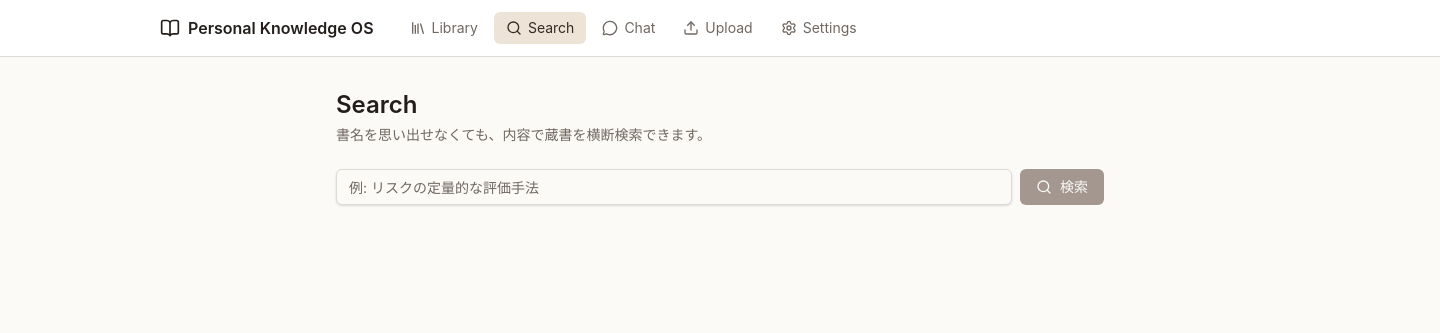
Test: SearchPage › 検索を実行し、citation付きの結果カードを表示する
In the field named "検索キーワード": (674, 187) [336,169,1012,205], type "リスク対応"
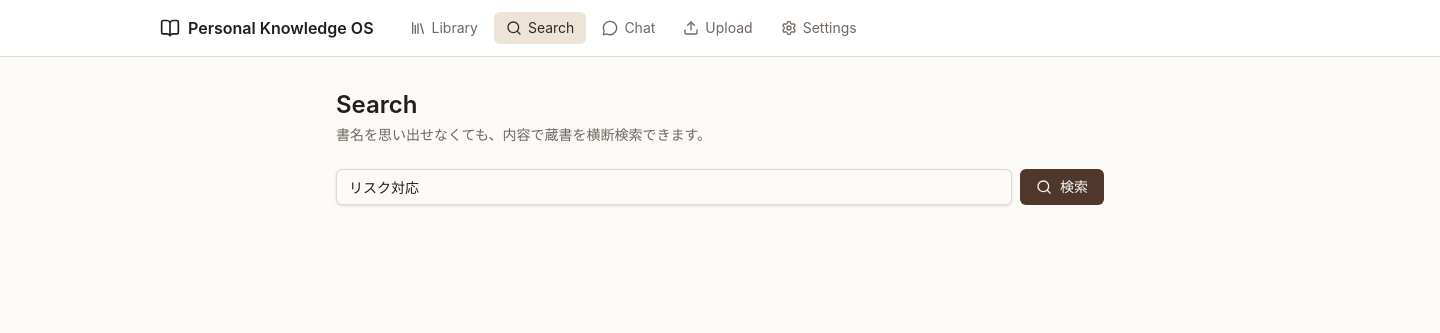
Click the button "検索": (1062, 187) [1020,169,1104,205]
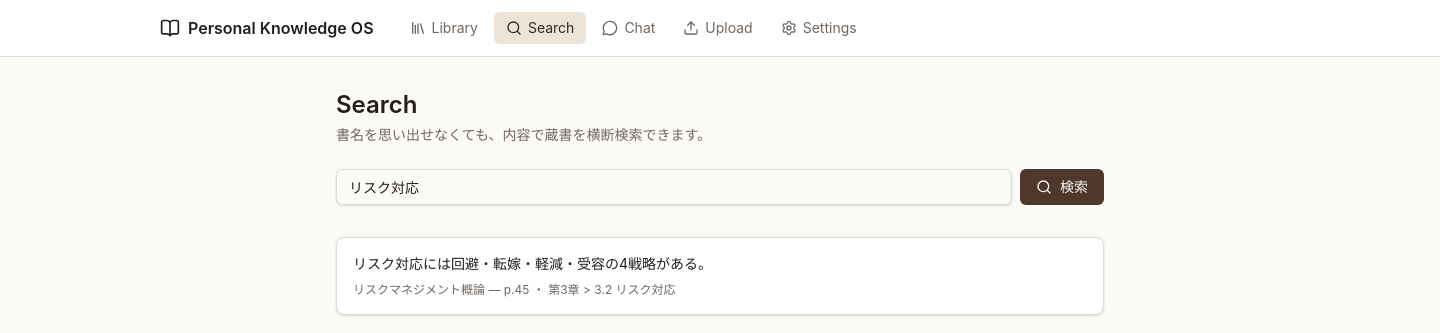
Expected: the text "リスク対応には回避・転嫁・軽減・受容の4戦略がある。" is shown, [353,255,712,272]
Expected: the text "リスクマネジメント概論 — p.45 ・ 第3章 > 3.2 リスク対応" is shown, [353,282,676,297]
